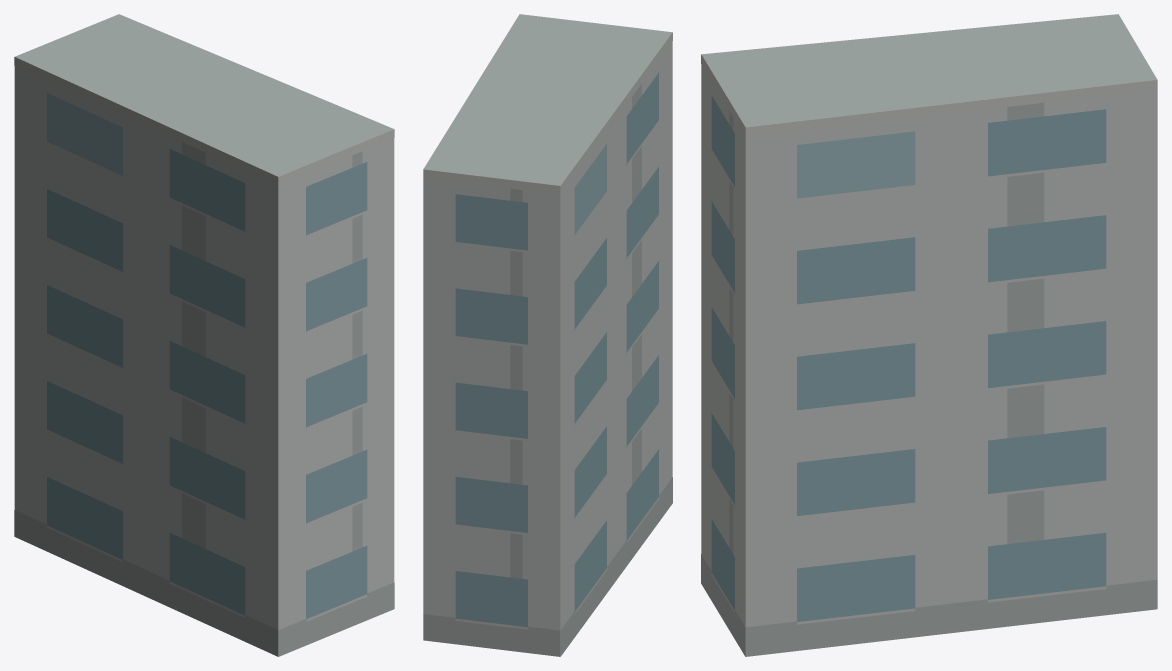
The model's file is survey-upis-32651311.glb.
3 views of the same model, side by side, from view 1: azimuth 30°, elevation 25°; view 2: azimuth 150°, elevation 25°; view 3: azimuth 270°, elevation 25° (orthographic). The views are drawn at different scales.
Parts seen in each view (by area): view 1: survey-upis-32651311.tmp; view 2: survey-upis-32651311.tmp; view 3: survey-upis-32651311.tmp.
Boxes of the visible parts, bbox=[...] form: survey-upis-32651311.tmp: bbox=[14, 14, 394, 656]; survey-upis-32651311.tmp: bbox=[423, 14, 672, 656]; survey-upis-32651311.tmp: bbox=[701, 14, 1157, 656].
Bounding box in the file's own units: 6.08 × 13.2 × 10.32.
